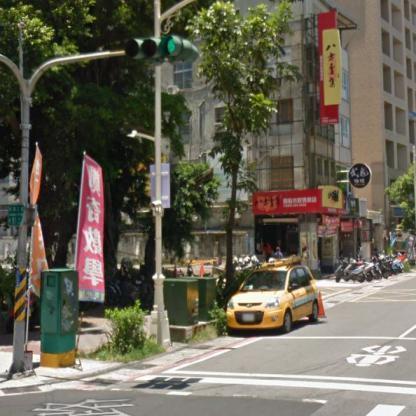Green Light: (127, 37, 187, 60)
